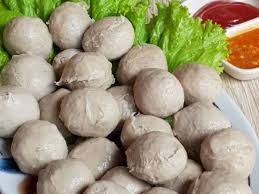bakso: (3, 5, 251, 194)
